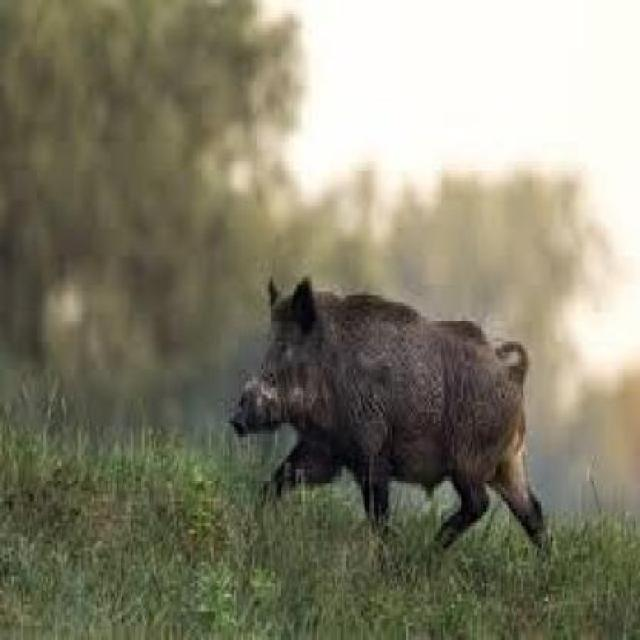wildboar: (225, 273, 546, 552)
